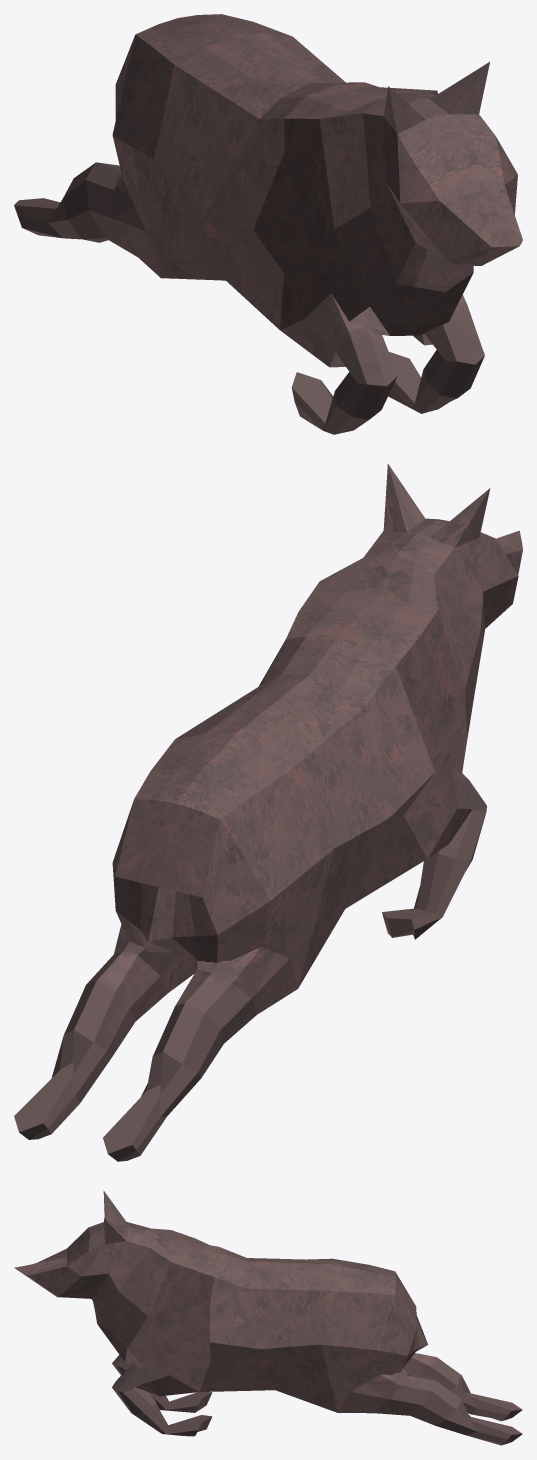
File: piesblendtex_000021.obj
3 views of the same model, one above another, from view 1: azimuth 30°, elevation 25°; view 2: azimuth 150°, elevation 25°; view 3: azimuth 270°, elevation 25° (orthographic). The views are drawn at different scales.
Parts seen in each view (by area): view 1: Cube; view 2: Cube; view 3: Cube.
Part boxes in pixels (x1,y1,x2,y2): Cube: [14, 14, 522, 434]; Cube: [14, 464, 522, 1161]; Cube: [14, 1191, 522, 1445].
Bounding box in the file's own units: 2.56 × 5.57 × 11.18.
